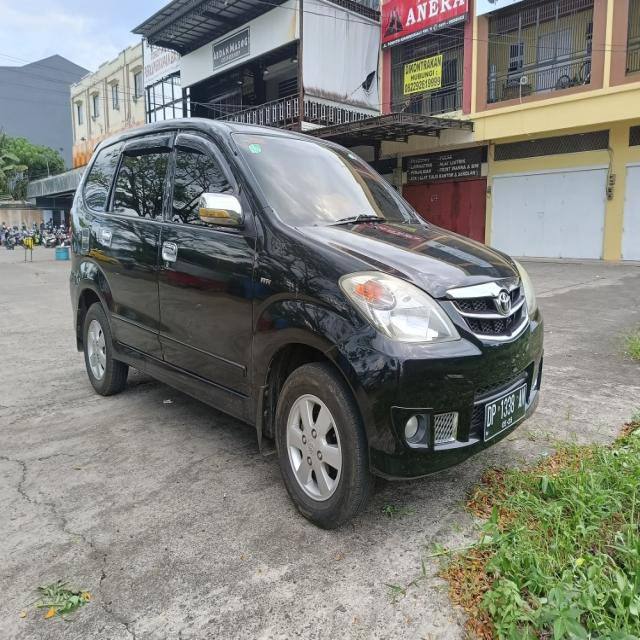plates: (480, 377, 530, 440)
